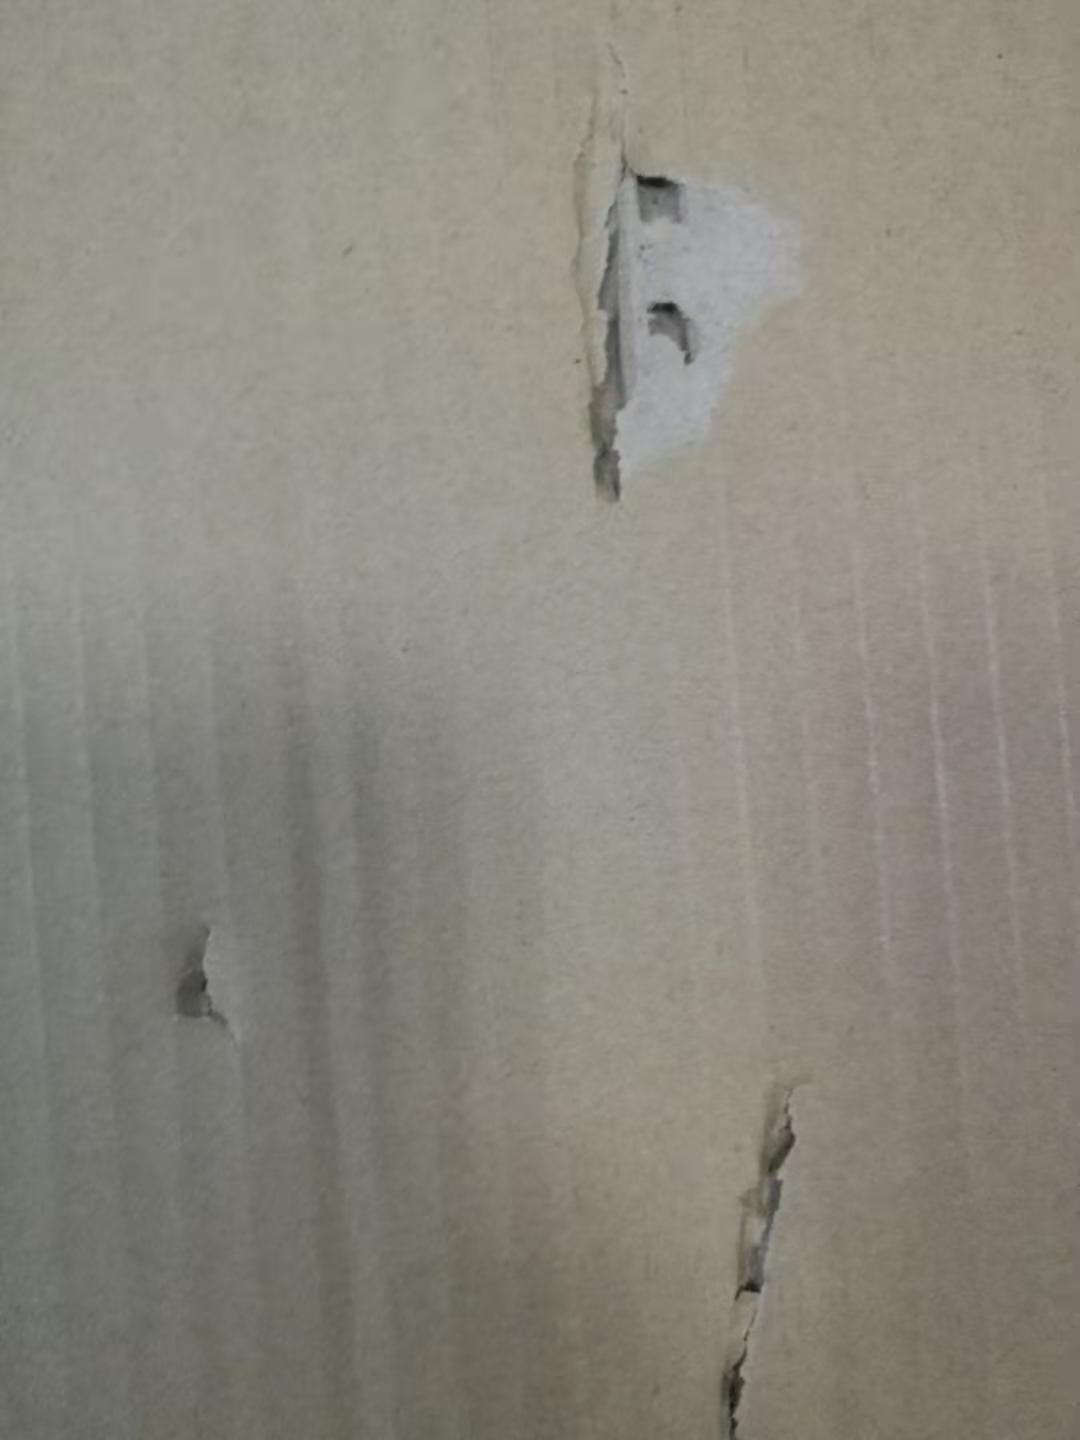defect: (531, 18, 863, 548), (653, 1028, 878, 1440), (146, 888, 275, 1073)
